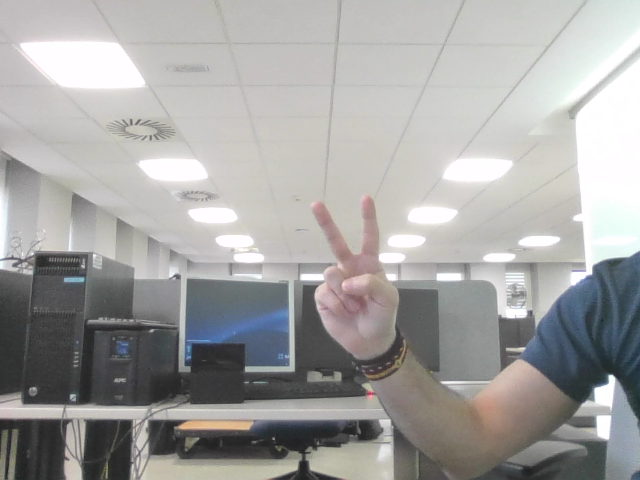2Dedos: (321, 208, 384, 316)
